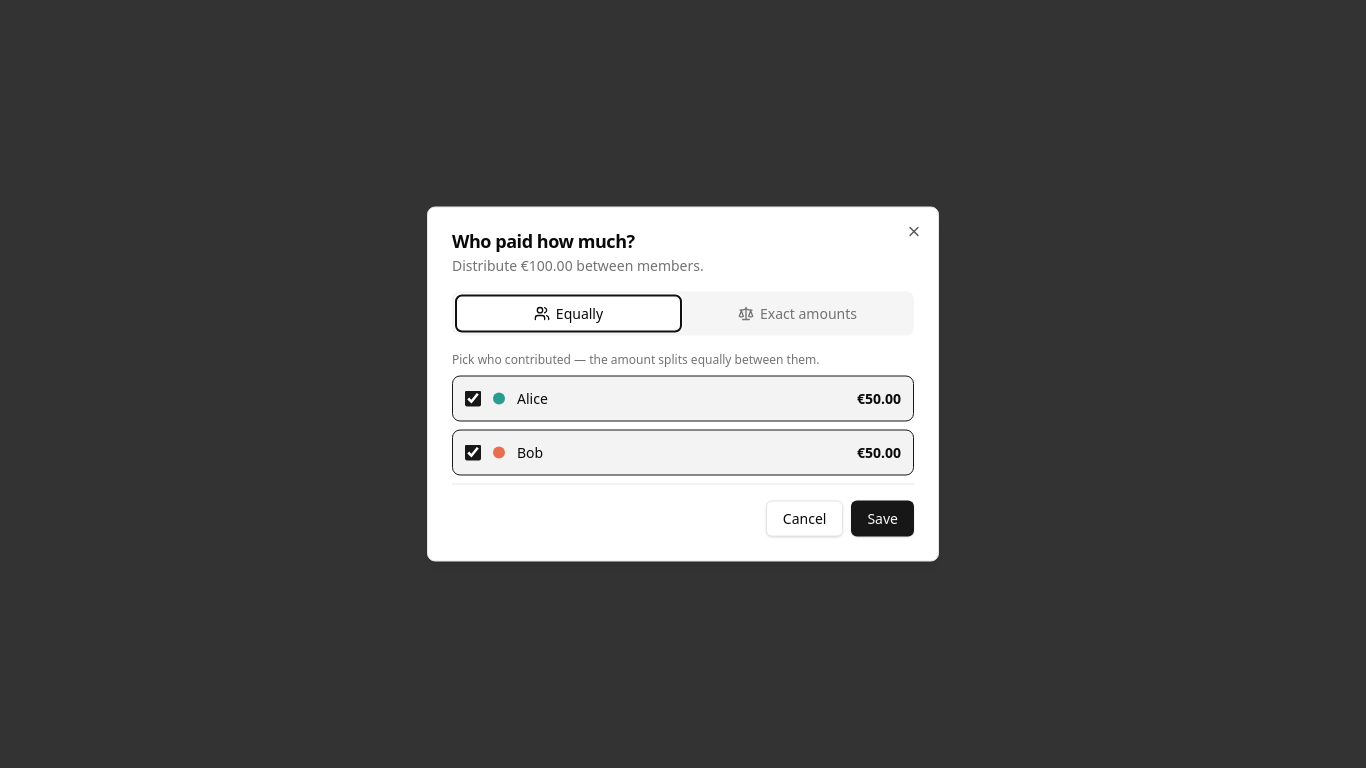
Test: SplitEditor — quick-pick presets (2-member) › applies 60/40 to the inputs when tapped
Click the button "Exact amounts" at (798,314), box [685,296,910,332]
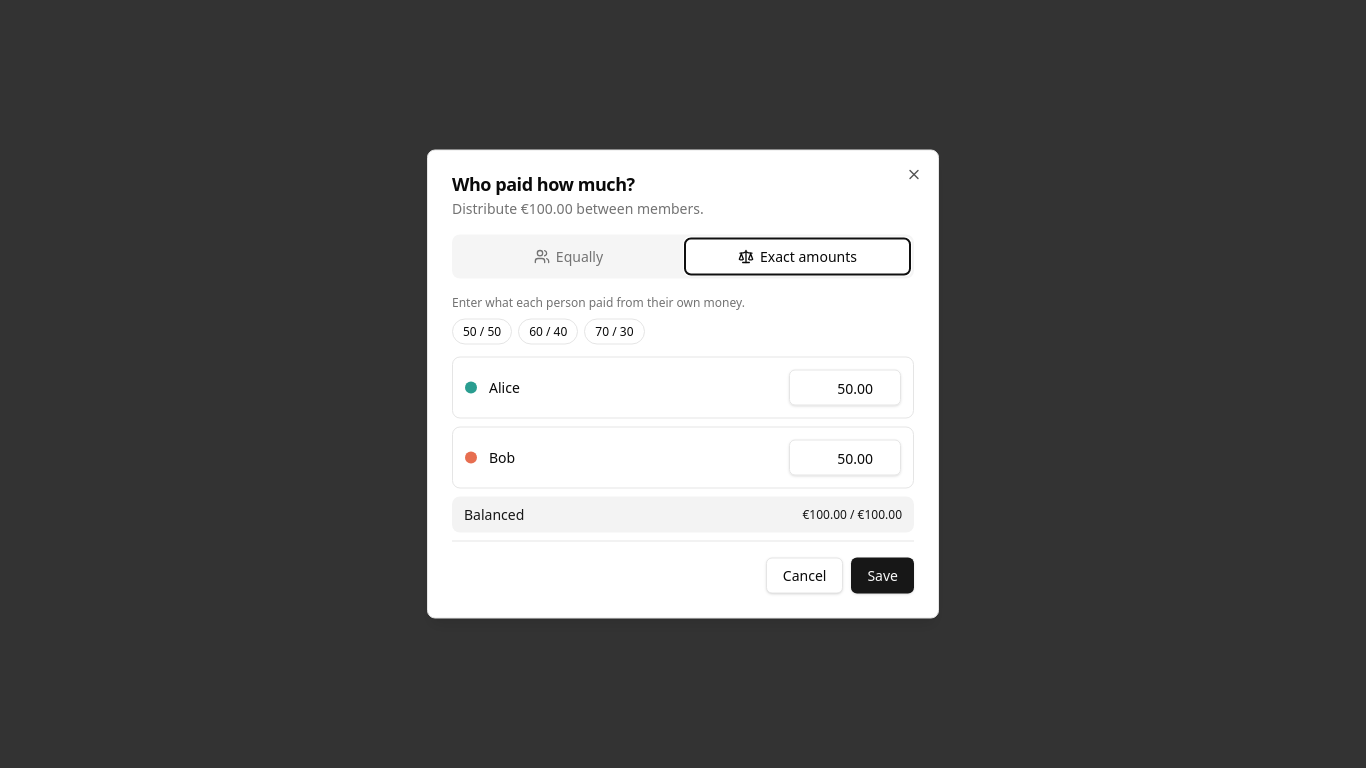
Click the button "60 / 40" at (548,332), box [518,318,578,344]
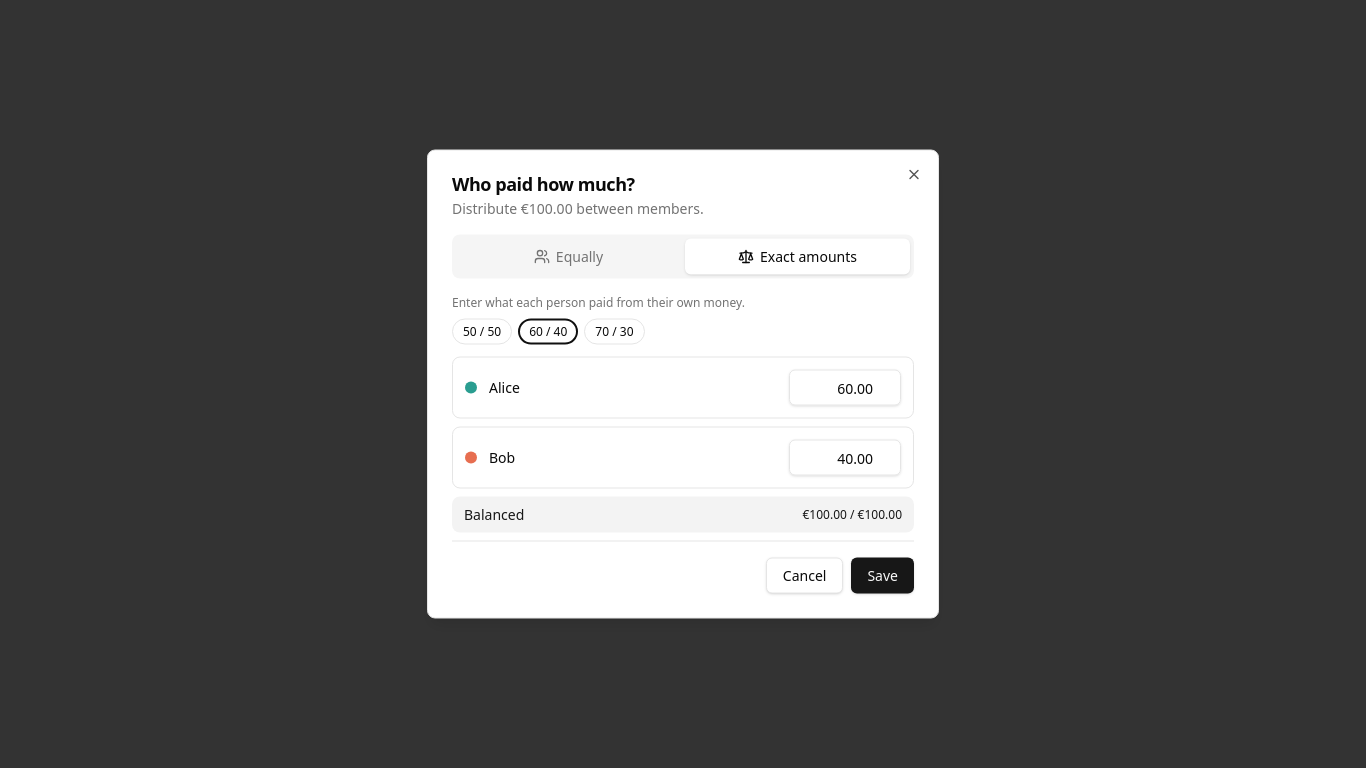
Result: the number field labelled "Alice" holds "60.00" at [789,370,901,406]
Result: the number field labelled "Bob" holds "40.00" at [789,440,901,476]
